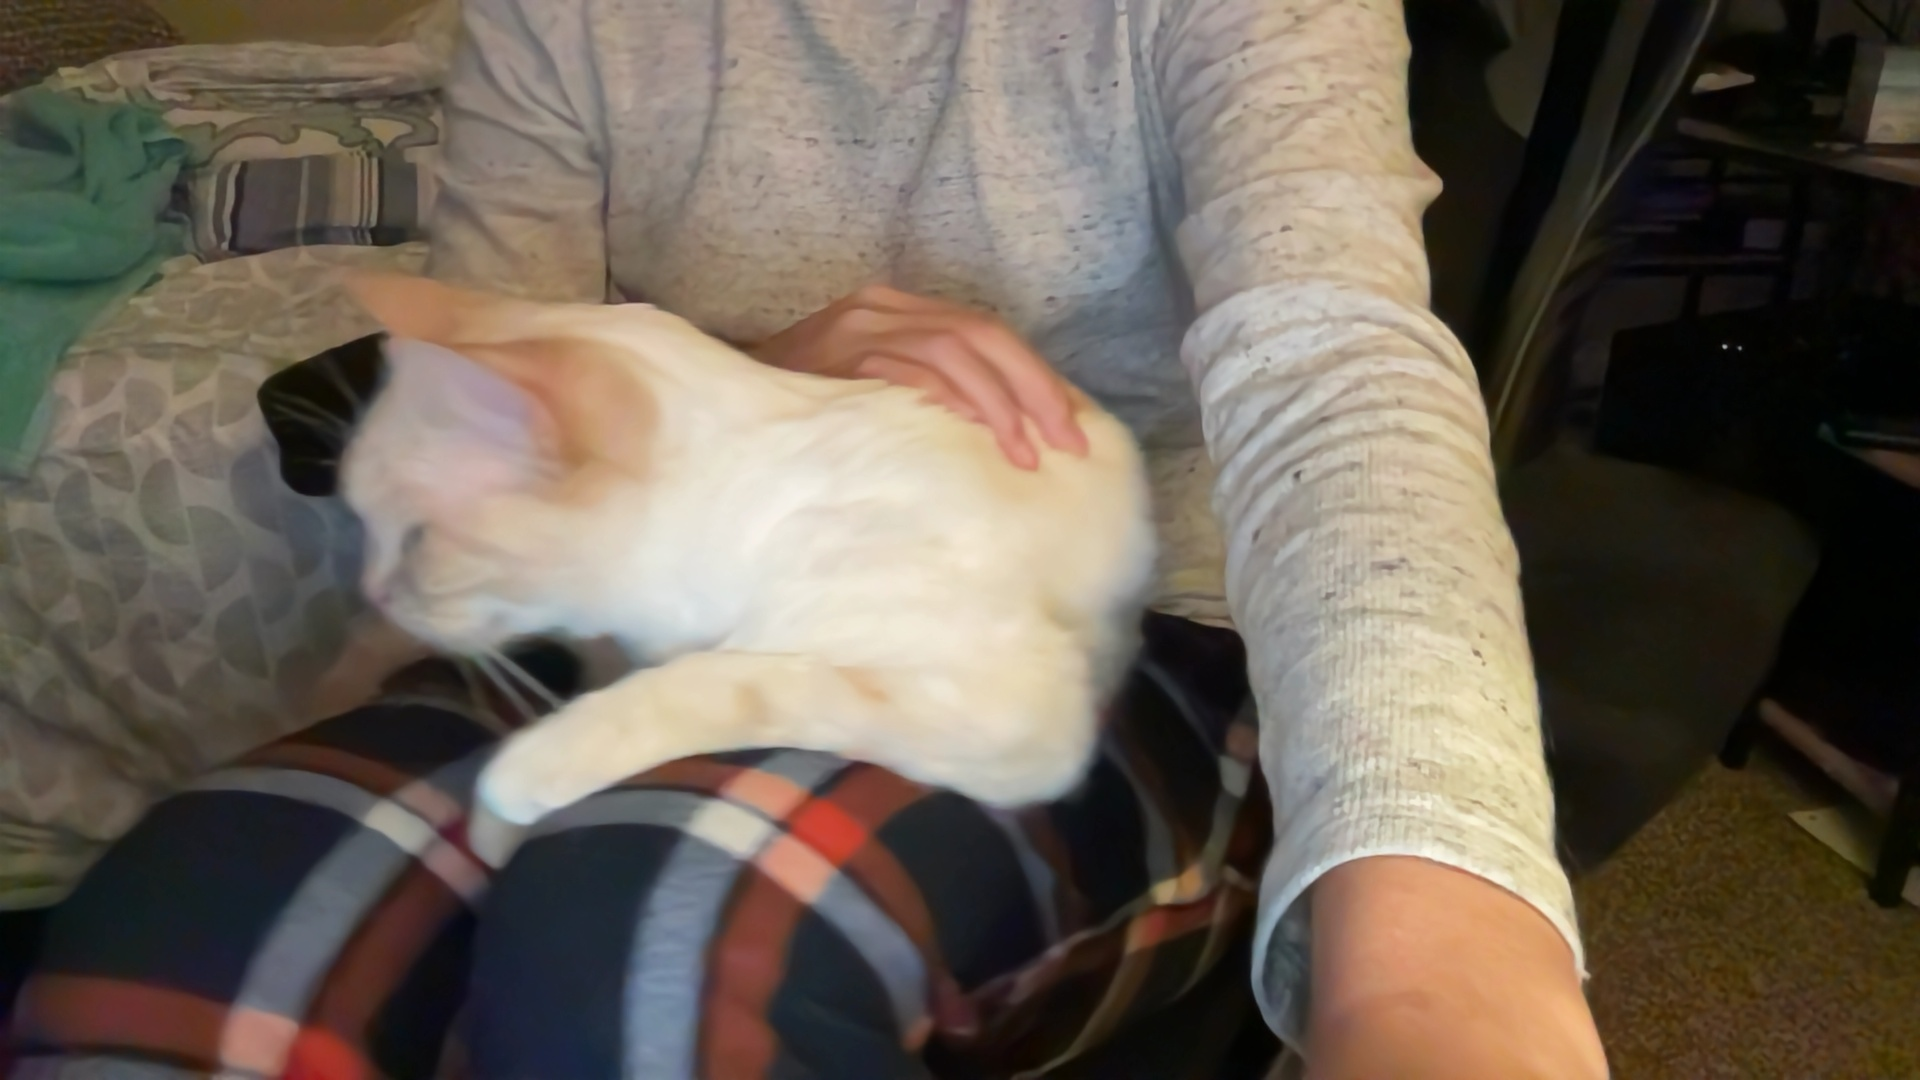cat: (322, 248, 1160, 839)
